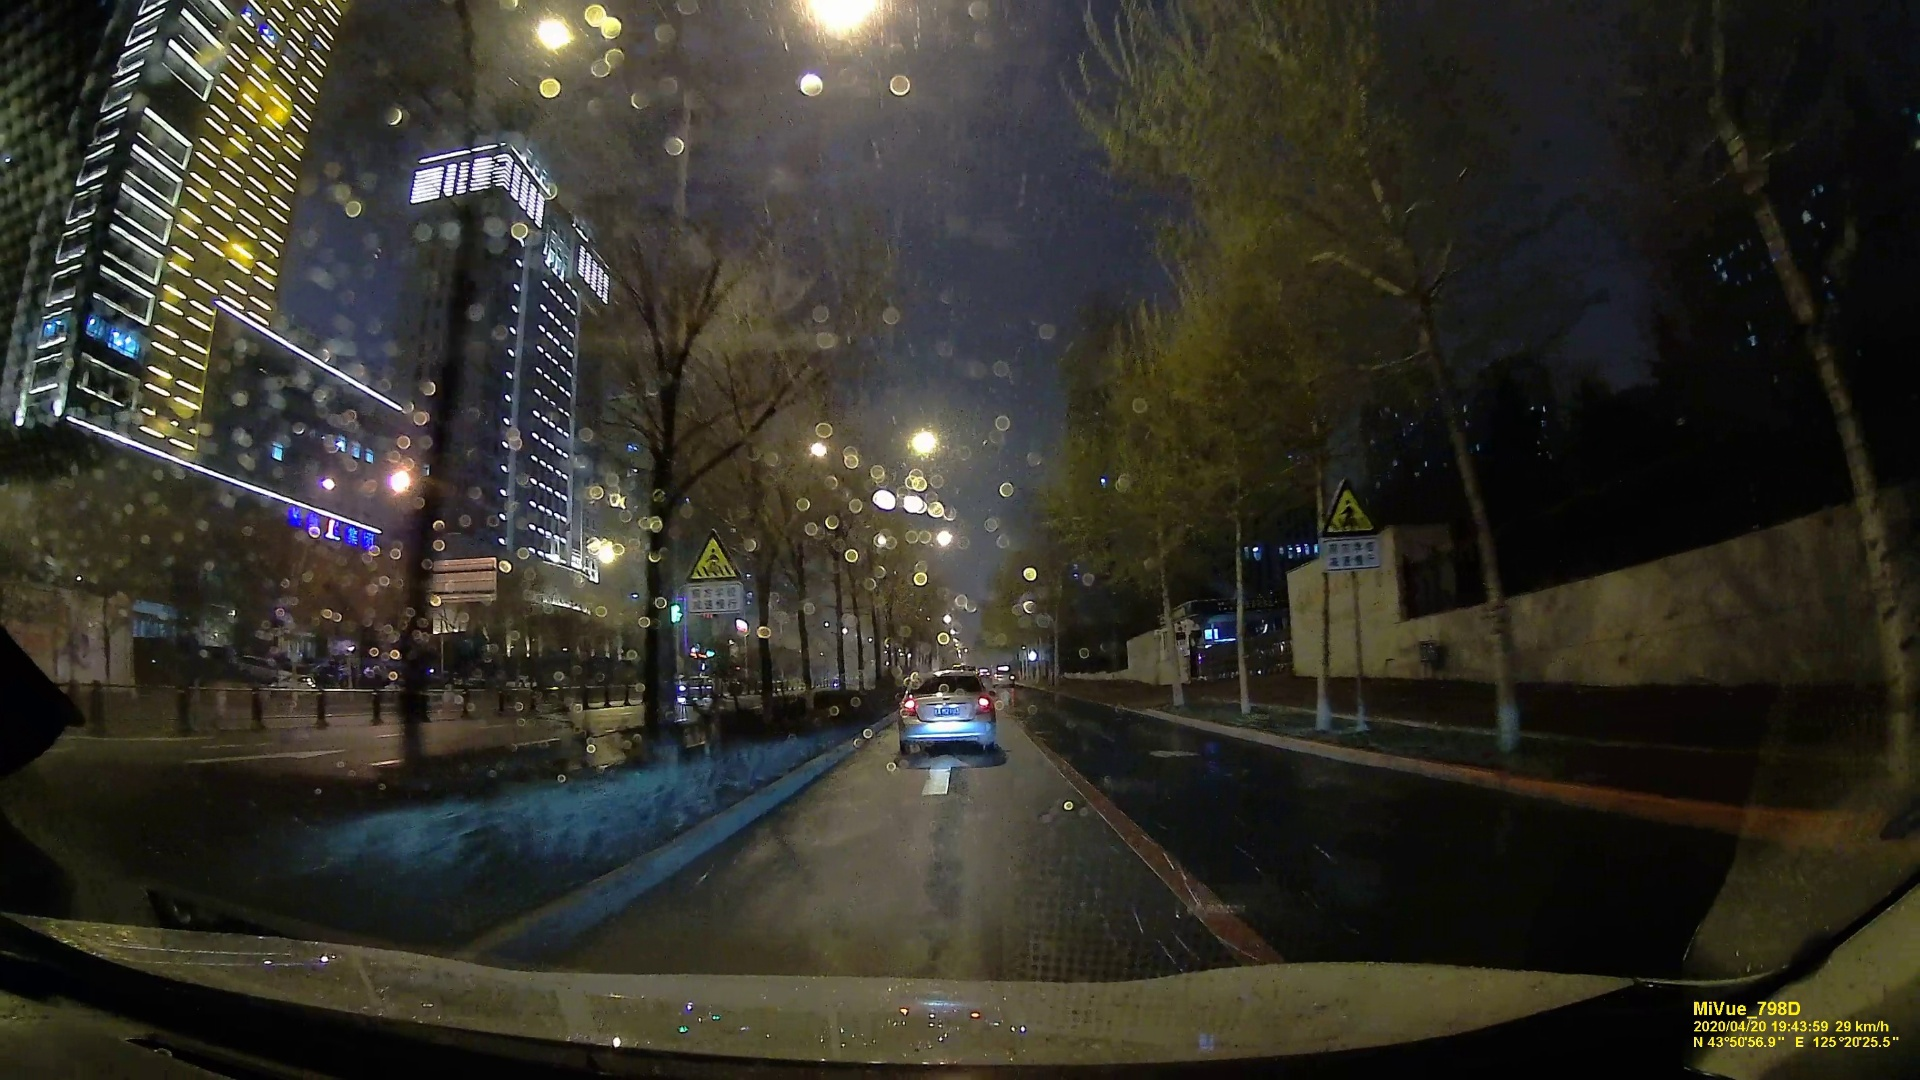traffic_sign: (683, 535, 746, 616), (1328, 479, 1373, 570)
vehicle: (899, 671, 996, 761)
